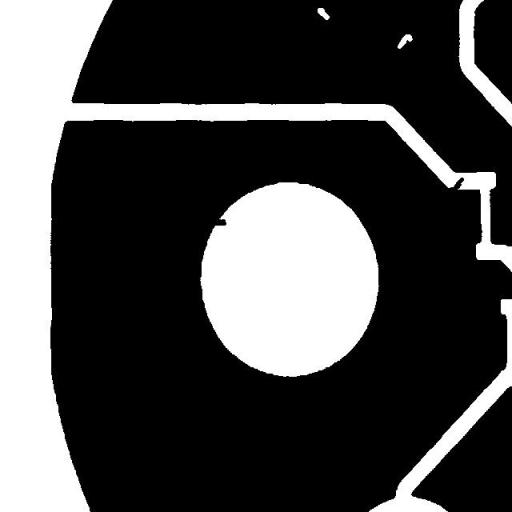pin-hole: (390, 26, 419, 56), (310, 1, 336, 27)
spur: (440, 170, 471, 199), (204, 210, 234, 234)
